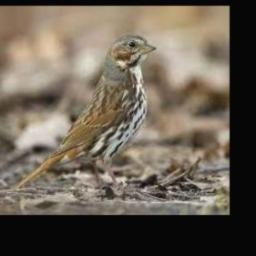Sparrow: (15, 34, 158, 189)
